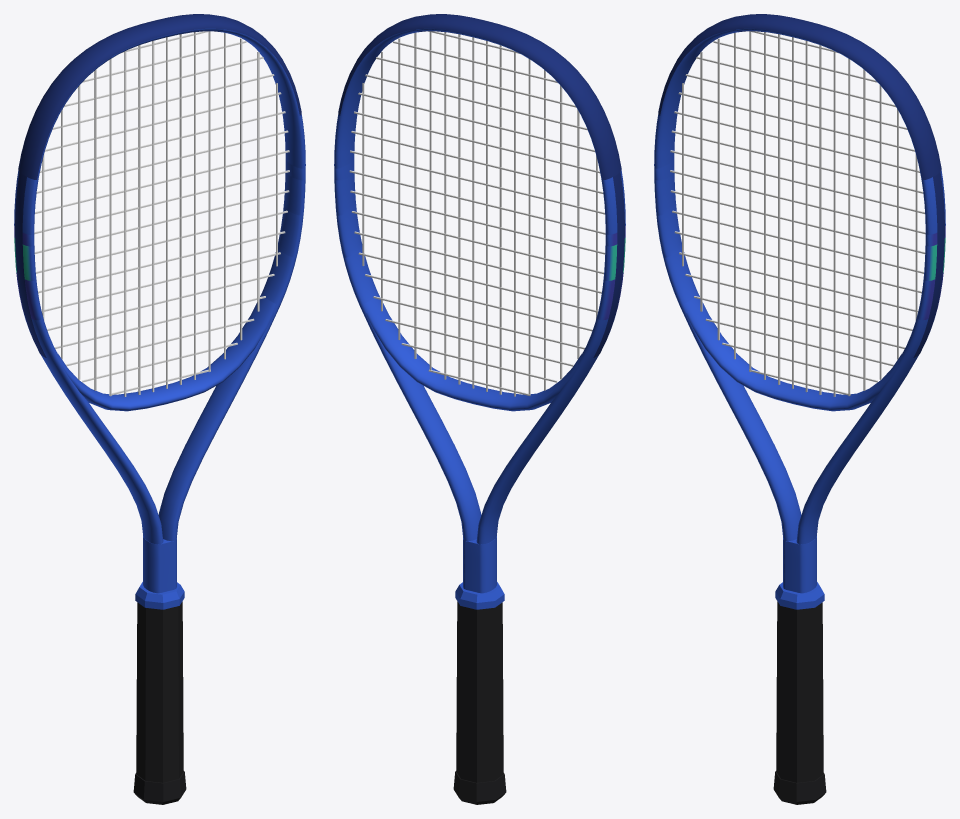
The model's file is yonex-ezone-alpha-l.glb.
3 views of the same model, side by side, from view 1: azimuth 30°, elevation 25°; view 2: azimuth 150°, elevation 25°; view 3: azimuth 330°, elevation 25° (orthographic).
Parts seen in each view (by area): view 1: frame, strings_mains, strings_crosses, grip, bumper, grommets, butt_cap, collar; view 2: frame, strings_mains, strings_crosses, grip, bumper, grommets, butt_cap, collar; view 3: frame, strings_mains, strings_crosses, grip, bumper, grommets, butt_cap, collar.
Boxes of the visible parts, x1,y1,x2,y2 form: frame: (14,28,305,593); strings_mains: (42,31,277,396); strings_crosses: (34,31,289,395); grip: (136,601,183,782); bumper: (18,14,301,179); grommets: (15,172,46,357); butt_cap: (133,771,186,804); collar: (135,582,184,609); frame: (334,28,625,593); strings_mains: (362,32,597,396); strings_crosses: (349,31,605,395); grip: (456,601,503,782); bumper: (338,14,621,179); grommets: (593,172,624,357); butt_cap: (453,771,506,804); collar: (455,582,504,609); frame: (654,28,945,593); strings_mains: (682,31,917,396); strings_crosses: (670,31,925,395); grip: (776,601,823,782); bumper: (658,14,941,179); grommets: (913,172,944,357); butt_cap: (773,771,826,804); collar: (775,582,824,609).
Bounding box in the file's own units: 0.2636 × 0.6861 × 0.0396.
